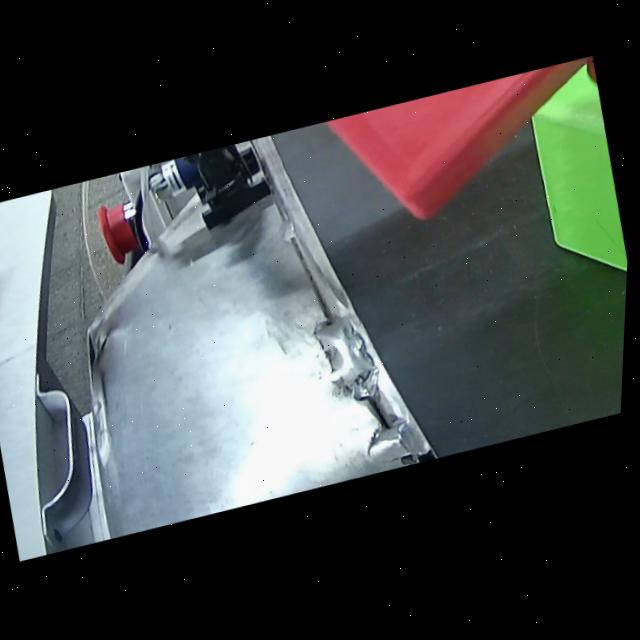greenBox: (510, 59, 637, 365)
redBox: (258, 59, 619, 263)
